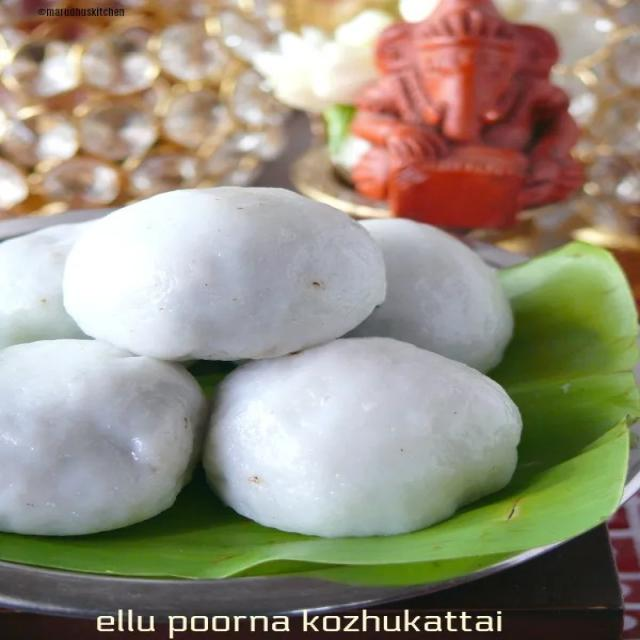poorna kolukattai: (0, 177, 541, 565)
